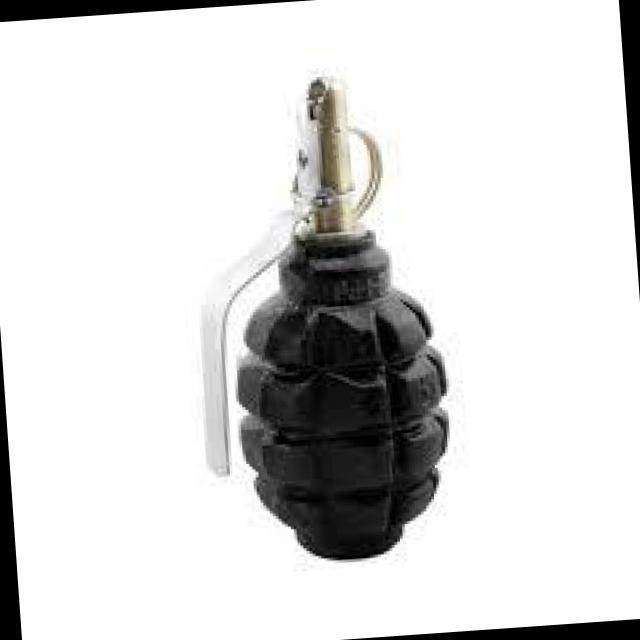grenade: (180, 51, 470, 566)
